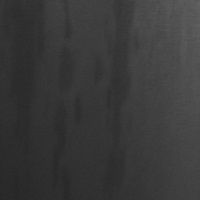inclusion: (99, 1, 136, 199), (1, 1, 38, 152), (50, 39, 77, 199), (57, 0, 76, 43)
